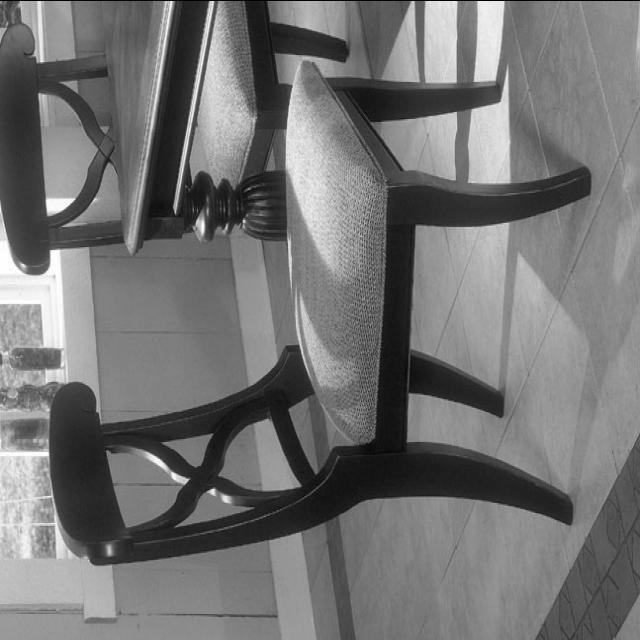chair: (48, 57, 592, 567), (0, 1, 348, 278)
